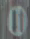Two way: (3, 2, 28, 38)
